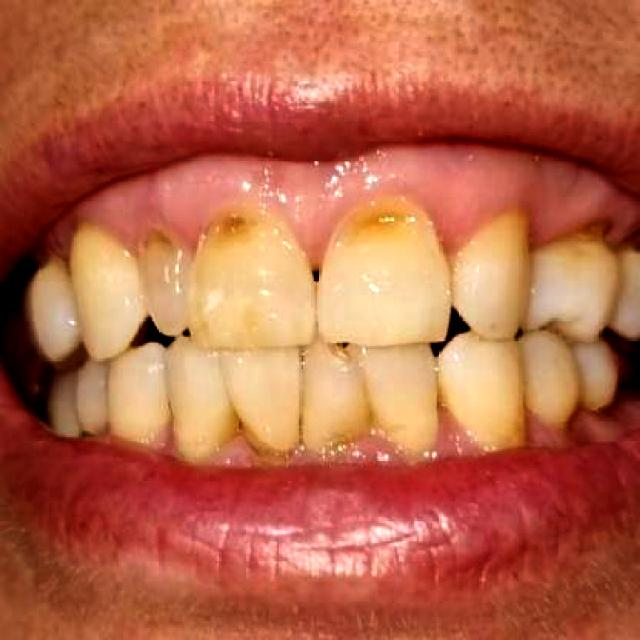Plaque: (89, 176, 601, 257), (436, 407, 486, 459), (335, 429, 407, 460), (209, 434, 267, 463), (526, 412, 565, 443), (287, 446, 322, 466), (152, 429, 177, 452)
